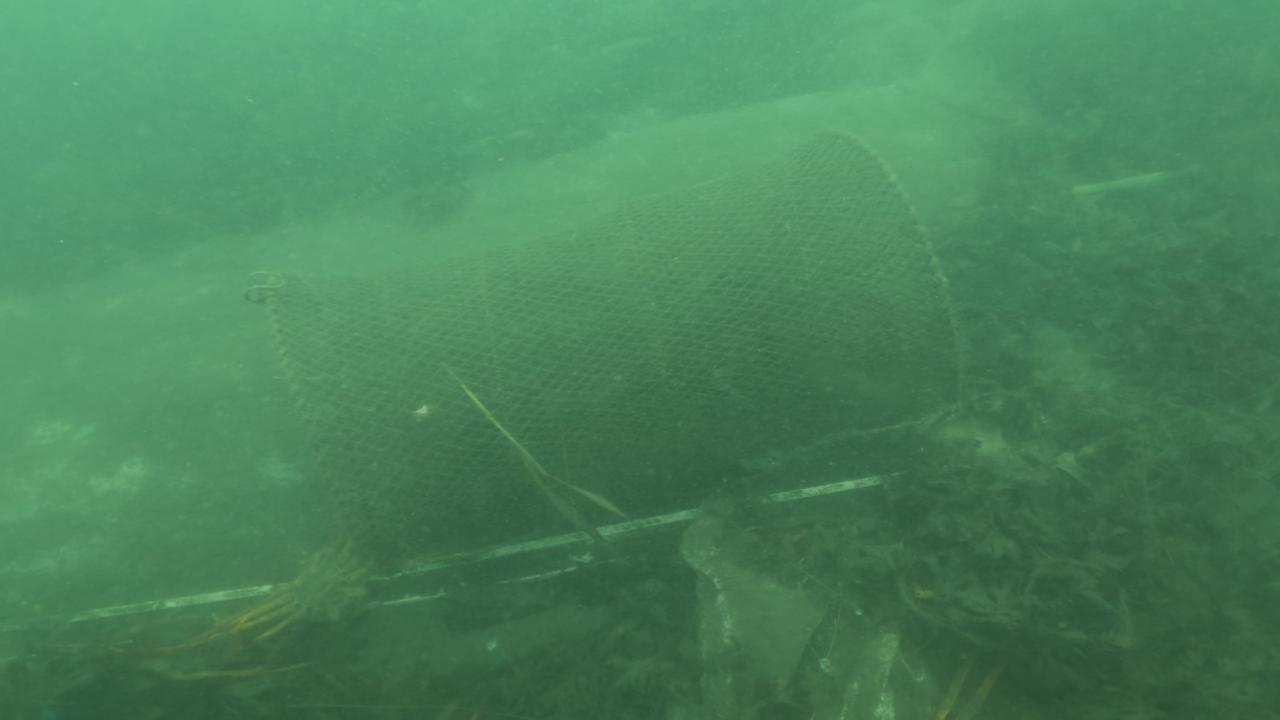spring fish trap: (262, 122, 968, 558)
